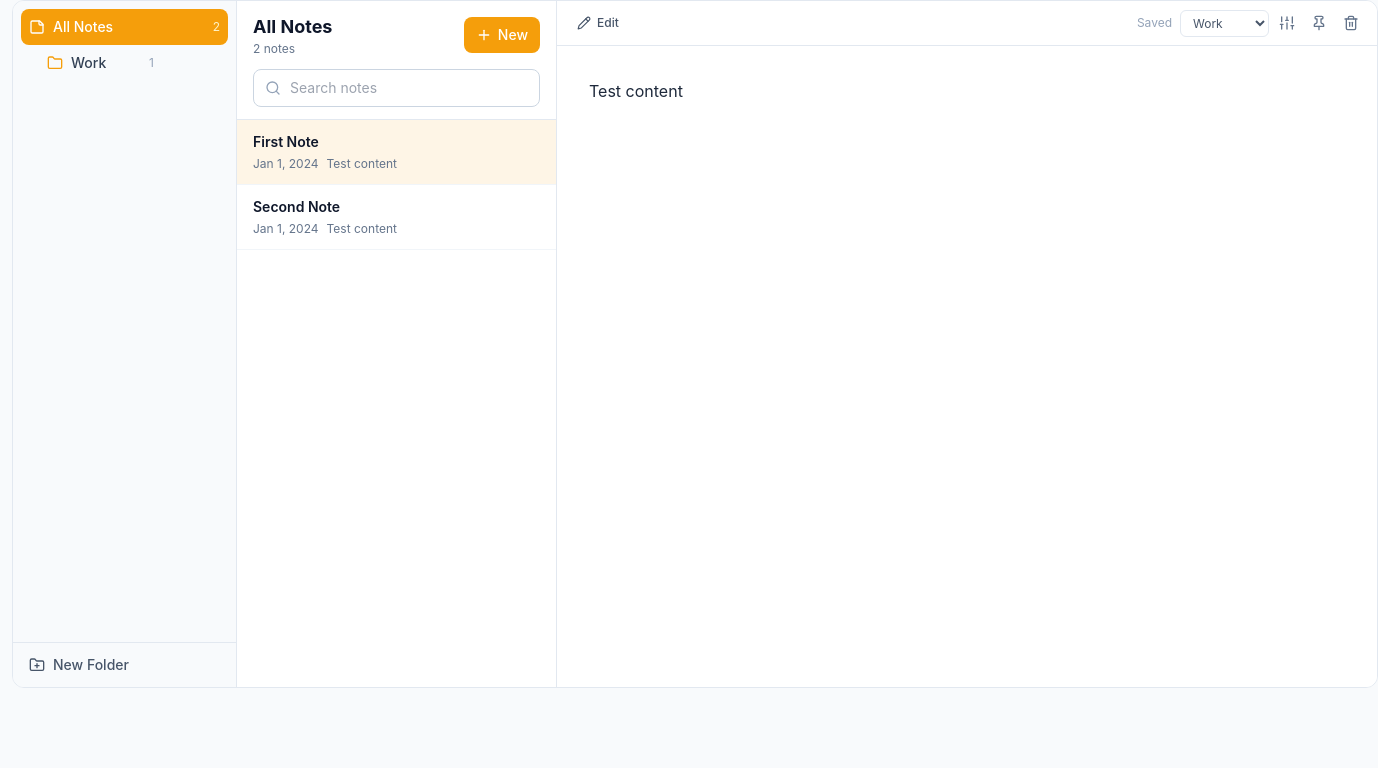
Test: Notes page › should filter the list by search term
The width and height of the screenshot is (1378, 768).
Check: the text "First Note" is shown, box [253,133,319,150]
Type "Second" into the field labelled "Search notes" at (396, 88), box [253,69,540,107]
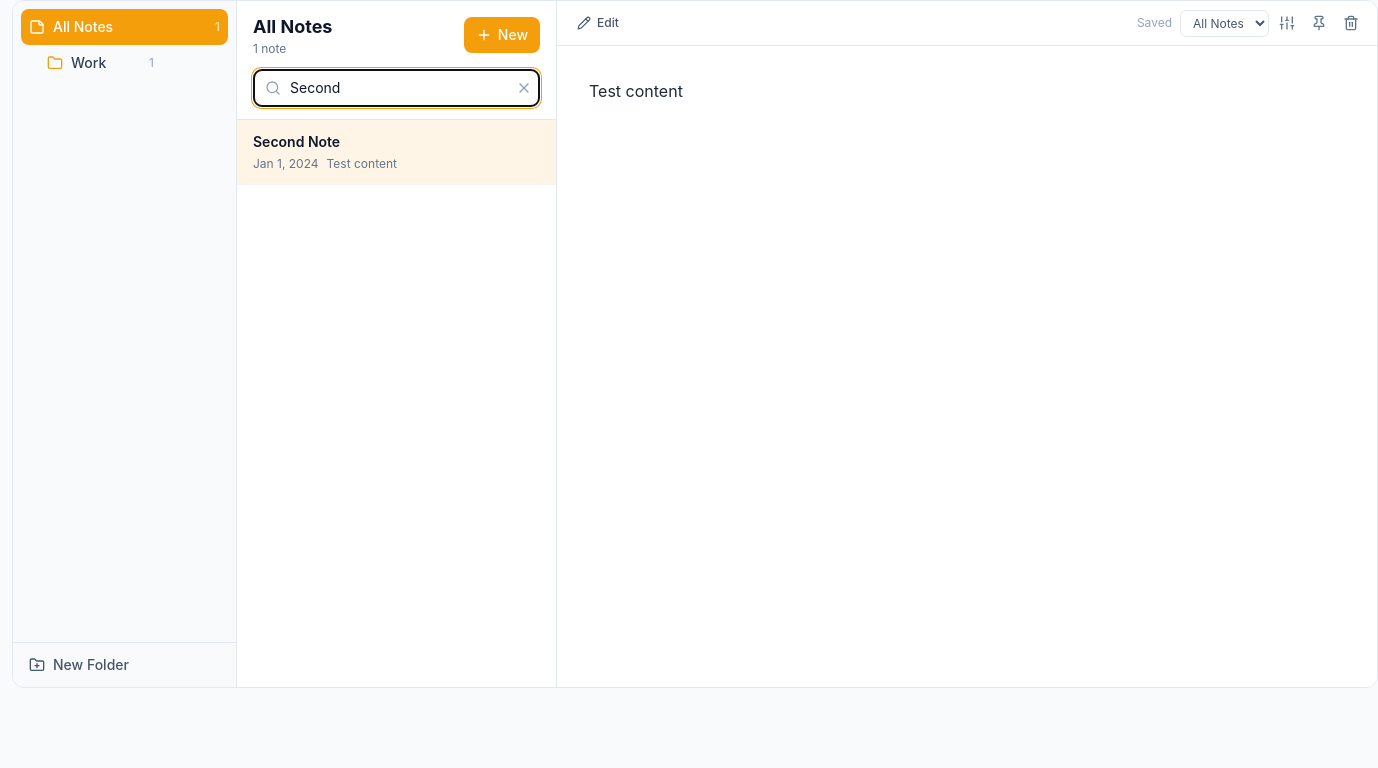
Check: the text "Second Note" is shown, box [253,133,340,150]
Check: the button "First Note" is gone
